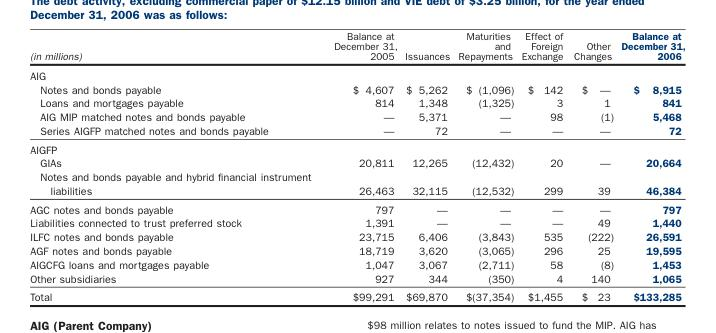table: (29, 29, 684, 302)
table column: (29, 29, 321, 302), (321, 29, 400, 302), (616, 29, 684, 302), (453, 29, 516, 302), (400, 29, 453, 302), (516, 29, 567, 302), (567, 29, 616, 302)
table column header: (29, 29, 684, 64)
table projected row header: (29, 64, 684, 81), (29, 139, 684, 155)
table row: (29, 29, 684, 64), (29, 169, 684, 199), (29, 64, 684, 81), (29, 123, 684, 139), (29, 139, 684, 155), (29, 199, 684, 215), (29, 271, 684, 287), (29, 287, 684, 302), (29, 81, 684, 95), (29, 95, 684, 109), (29, 109, 684, 123), (29, 155, 684, 169), (29, 215, 684, 229), (29, 229, 684, 243), (29, 243, 684, 257), (29, 257, 684, 271)
